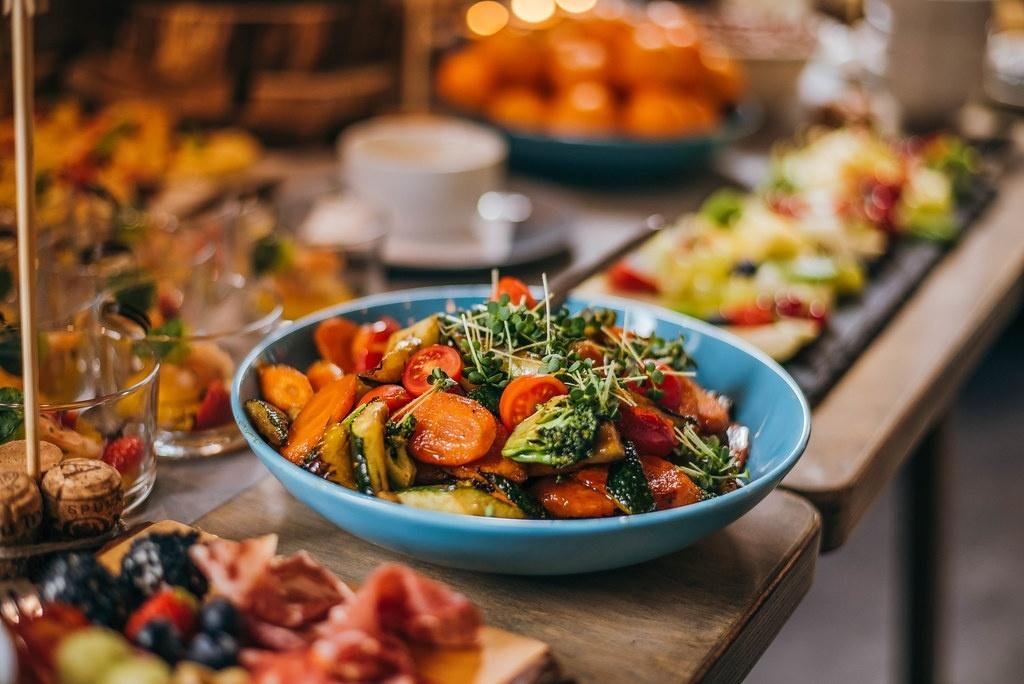Food-Detection: (275, 301, 788, 532)
